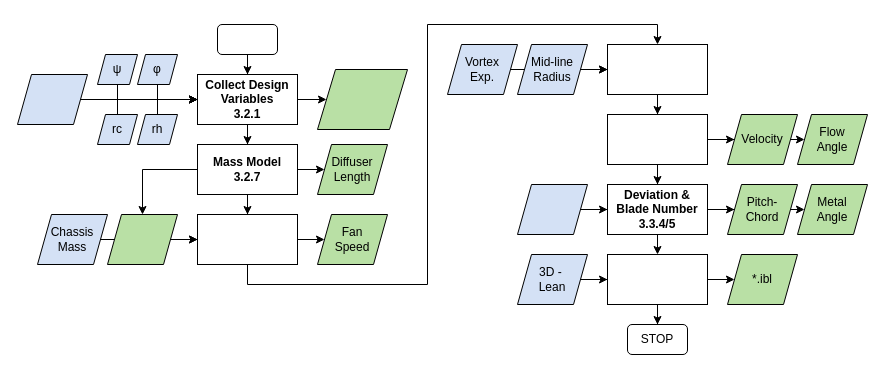
Image size: 885x372. Some labels were removed from this diagram. The shapes that lost their labels are listed below. From the top down, each one's centre as x and y in pixels, then its label:
At point (247, 39): "START".
At point (657, 69): "Vortex Distributions 3.3.1".
At point (52, 99): "Blade aspect ratios".
At point (362, 99): "Exit Duct Area Ratio".
At point (657, 139): "Velocity Triangles 3.3.2".
At point (552, 209): "Diffusion Factor".
At point (142, 239): "EDF Mass".
At point (247, 239): "Thrust = Weight 3.2.8".
At point (657, 279): "Generate Profiles 3.3.9".
